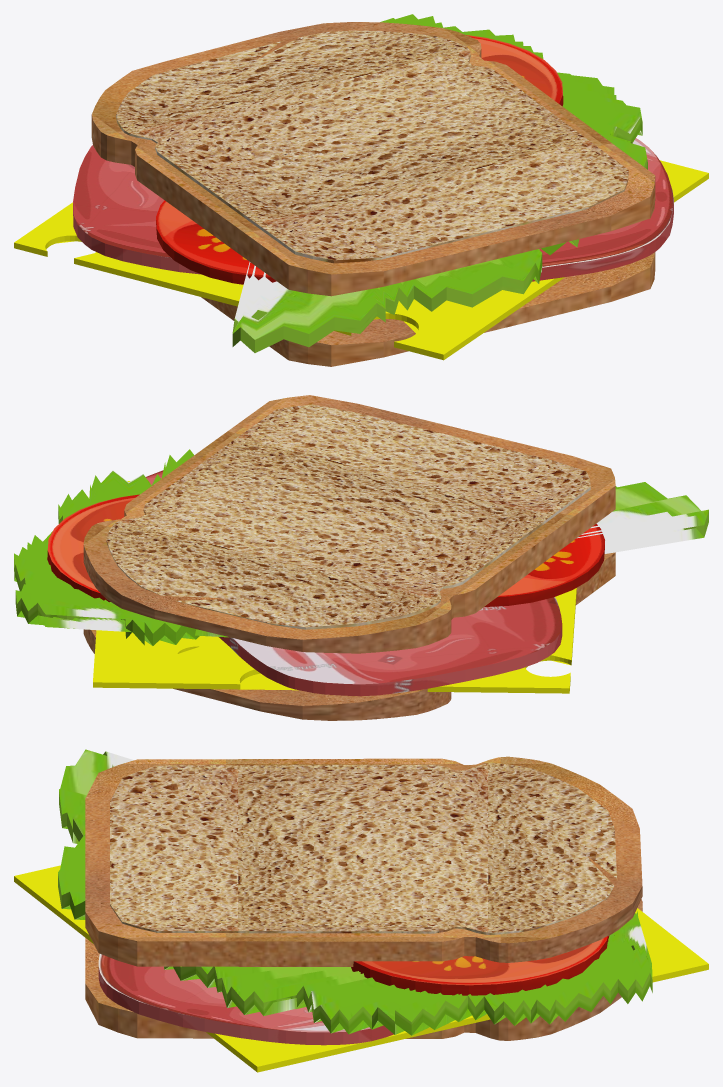
File: sandwich.fbx
3 views of the same model, one above another, from view 1: azimuth 30°, elevation 25°; view 2: azimuth 150°, elevation 25°; view 3: azimuth 270°, elevation 25° (orthographic). The views are drawn at different scales.
Visible parts, largest first — view 1: Pan, Lechuga, Jamón, Queso, Tomatoes; view 2: Pan, Jamón, Lechuga, Queso, Tomatoes; view 3: Pan, Lechuga, Jamón, Queso, Tomatoes.
Boxes of the visible parts, <box> form: Pan: <box>91,22,655,366</box>; Lechuga: <box>232,14,647,352</box>; Jamón: <box>73,138,673,281</box>; Queso: <box>14,160,708,360</box>; Tomatoes: <box>156,35,563,284</box>; Pan: <box>83,395,615,720</box>; Jamón: <box>146,470,562,696</box>; Lechuga: <box>14,449,708,645</box>; Queso: <box>93,481,576,693</box>; Tomatoes: <box>47,494,604,606</box>; Pan: <box>85,756,642,1040</box>; Lechuga: <box>58,749,652,1035</box>; Jamón: <box>98,954,393,1045</box>; Queso: <box>14,865,708,1072</box>; Tomatoes: <box>351,936,609,995</box>.
Bounding box in the file's own units: 235 × 38.09 × 235.
